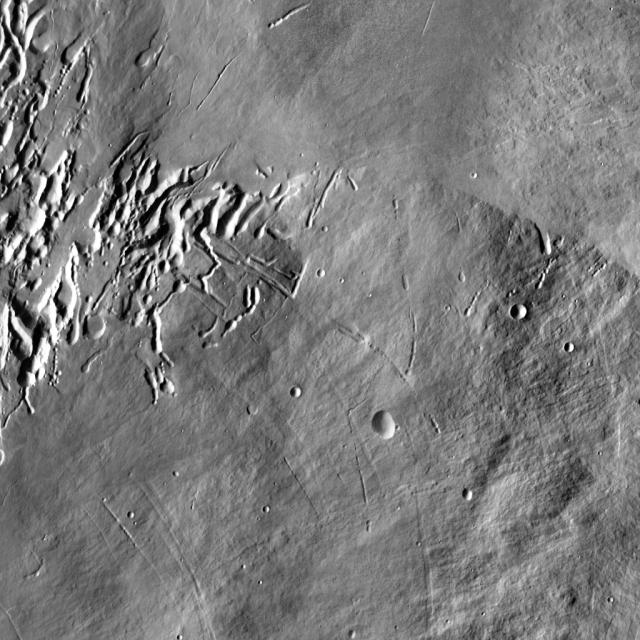crater: (514, 302, 530, 318), (294, 386, 304, 396), (465, 488, 475, 498), (568, 342, 576, 352), (320, 268, 328, 276)
